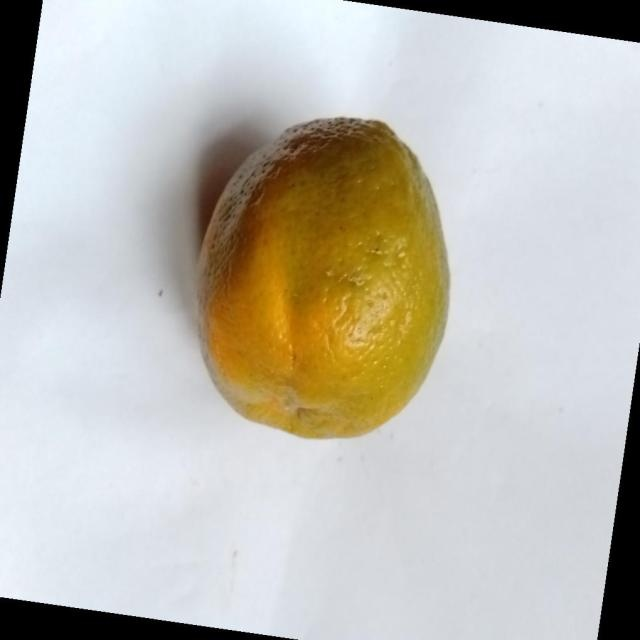agrume: (194, 115, 451, 440)
